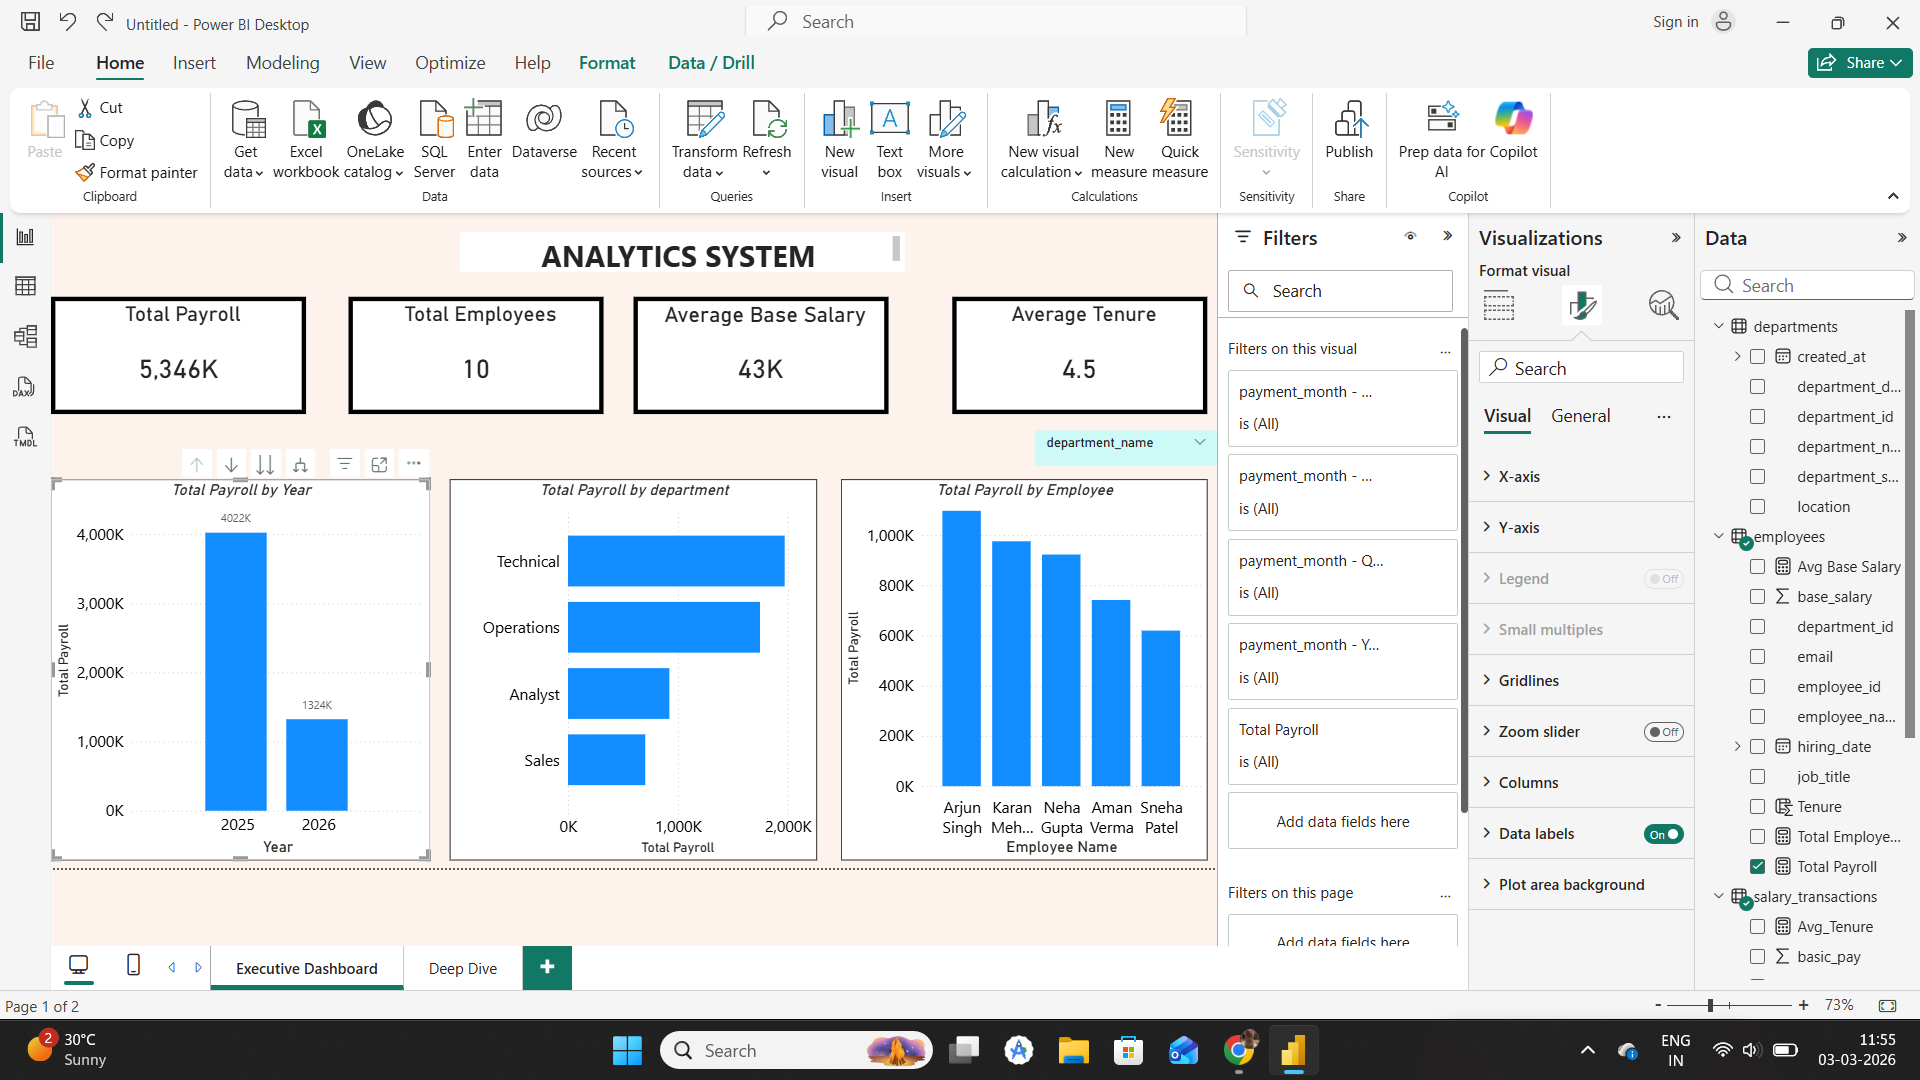

The dashboard page shown, as its layout file describes it:
{"tool":"powerbi","page":{"name":"Executive Dashboard","canvas":[1280,720],"ordinal":0},"visuals":[{"type":"card","title":"Total Payroll","fields":{"Values":["employees.Total Payroll"]},"box":[0,91.9,279.9,129],"z":0},{"type":"card","title":"Total Employees","fields":{"Values":["employees.Total Employees"]},"box":[326.6,91.9,279.9,129],"z":1000},{"type":"card","title":"Average Base Salary","fields":{"Values":["employees.Avg Base Salary"]},"box":[639.5,91.9,279.9,129],"z":2000},{"type":"card","title":"Average Tenure","fields":{"Values":["salary_transactions.Avg_Tenure"]},"box":[989.4,91.9,279.9,129],"z":3000},{"type":"textbox","box":[448.7,20.6,488.5,43.9],"z":4000},{"type":"clusteredColumnChart","fields":{"Y":["employees.Total Payroll"],"Category":["salary_transactions.payment_month.Variation.Date Hierarchy.Year","salary_transactions.payment_month.Variation.Date Hierarchy.Quarter","salary_transactions.payment_month.Variation.Date Hierarchy.Month","salary_transactions.payment_month.Variation.Date Hierarchy.Day"]},"box":[0,292.3,415.8,418.5],"z":5000},{"type":"barChart","title":"Total Payroll by department","fields":{"Category":["departments.department_name"],"Y":["employees.Total Payroll"]},"box":[437.7,292.3,403.4,418.5],"z":6000},{"type":"clusteredColumnChart","title":"Total Payroll by Employee","fields":{"Category":["employees.employee_name"],"Y":["employees.Total Payroll"]},"box":[867.2,292.3,402.1,418.5],"z":7000},{"type":"slicer","fields":{"Values":["departments.department_name"]},"box":[1079.9,238.8,200.3,38.4],"z":8000}]}

Visuals, with their boxes on the page's 1280x720 design canvas (x1, y1, x2, y2). These are canvas units, not pixel positions in the 1920x1080 screenshot, which may show the page scaled, cropped or inside an application window:
"Total Payroll" card: [left=0, top=92, right=280, bottom=221]
"Total Employees" card: [left=327, top=92, right=606, bottom=221]
"Average Base Salary" card: [left=640, top=92, right=919, bottom=221]
"Average Tenure" card: [left=989, top=92, right=1269, bottom=221]
textbox: [left=449, top=21, right=937, bottom=64]
clusteredColumnChart - employees.Total Payroll x salary_transactions.payment_month.Variation.Date Hierarchy.Year: [left=0, top=292, right=416, bottom=711]
"Total Payroll by department" barChart: [left=438, top=292, right=841, bottom=711]
"Total Payroll by Employee" clusteredColumnChart: [left=867, top=292, right=1269, bottom=711]
slicer - departments.department_name: [left=1080, top=239, right=1280, bottom=277]
